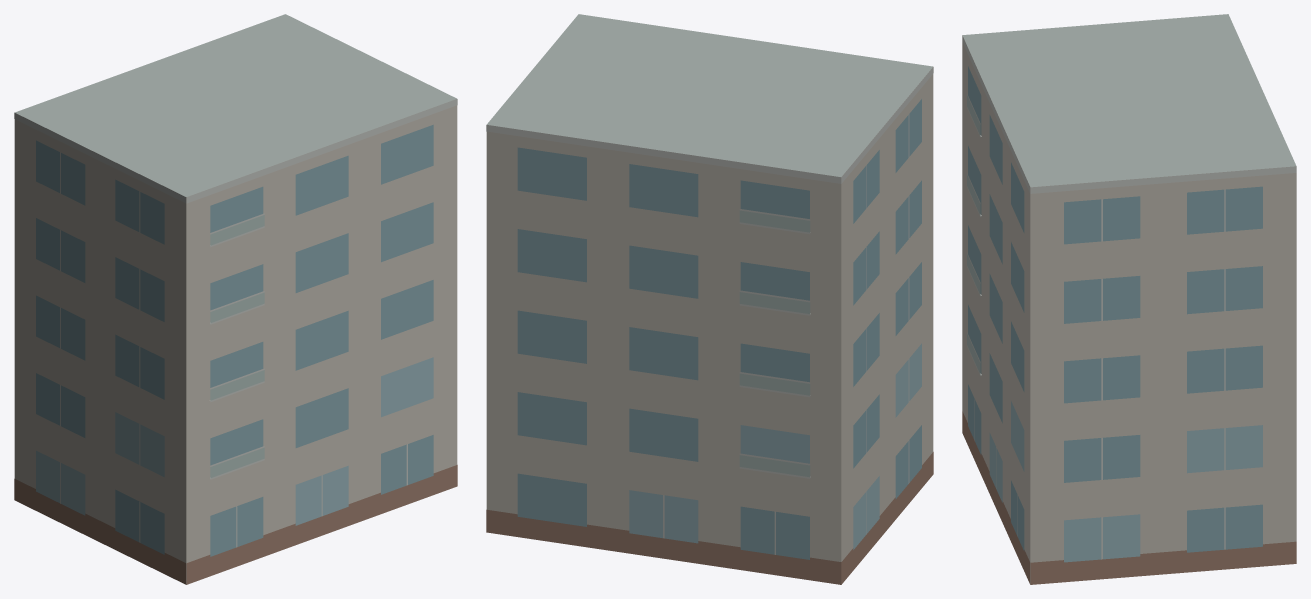
Rendered from survey-upis-32624663.glb.
The picture shows the model from 3 angles, left to right: view 1: azimuth 30°, elevation 25°; view 2: azimuth 150°, elevation 25°; view 3: azimuth 270°, elevation 25°; orthographic projection. The views are drawn at different scales.
Parts seen in each view (by area): view 1: survey-upis-32624663.tmp; view 2: survey-upis-32624663.tmp; view 3: survey-upis-32624663.tmp.
Part boxes in pixels (x1,y1,x2,y2): survey-upis-32624663.tmp: (14,14,457,584); survey-upis-32624663.tmp: (486,14,933,584); survey-upis-32624663.tmp: (962,14,1296,584).
Size of the model in its own units: 13.76 by 14.7 by 11.21.
